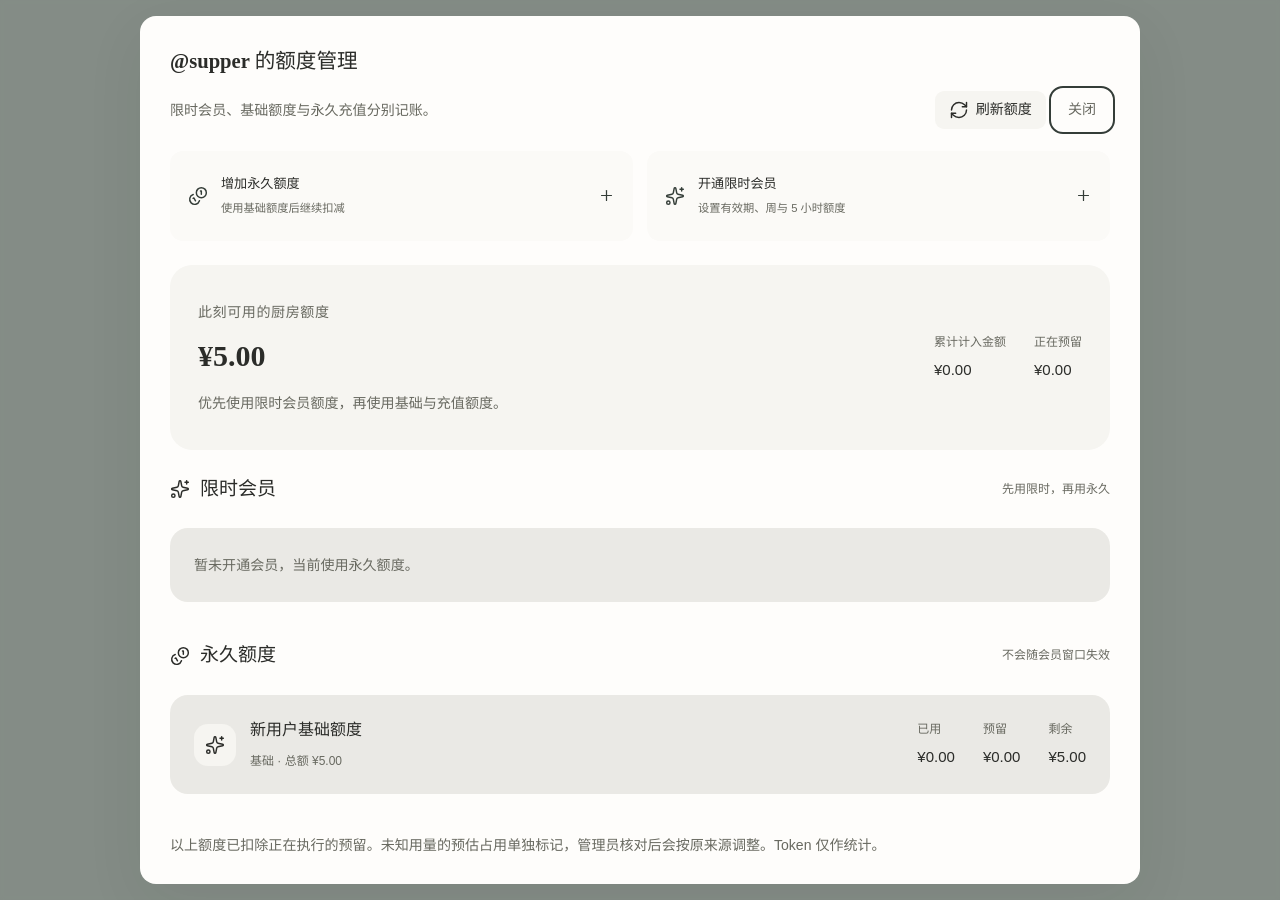
Test: Financial administration › keeps a saved grant committed if refreshing the parent account fails
The image size is (1280, 900).
Click the button "增加永久额度 使用基础额度后继续扣减" at (260, 183), box x1=170 y1=151 x2=633 y2=241
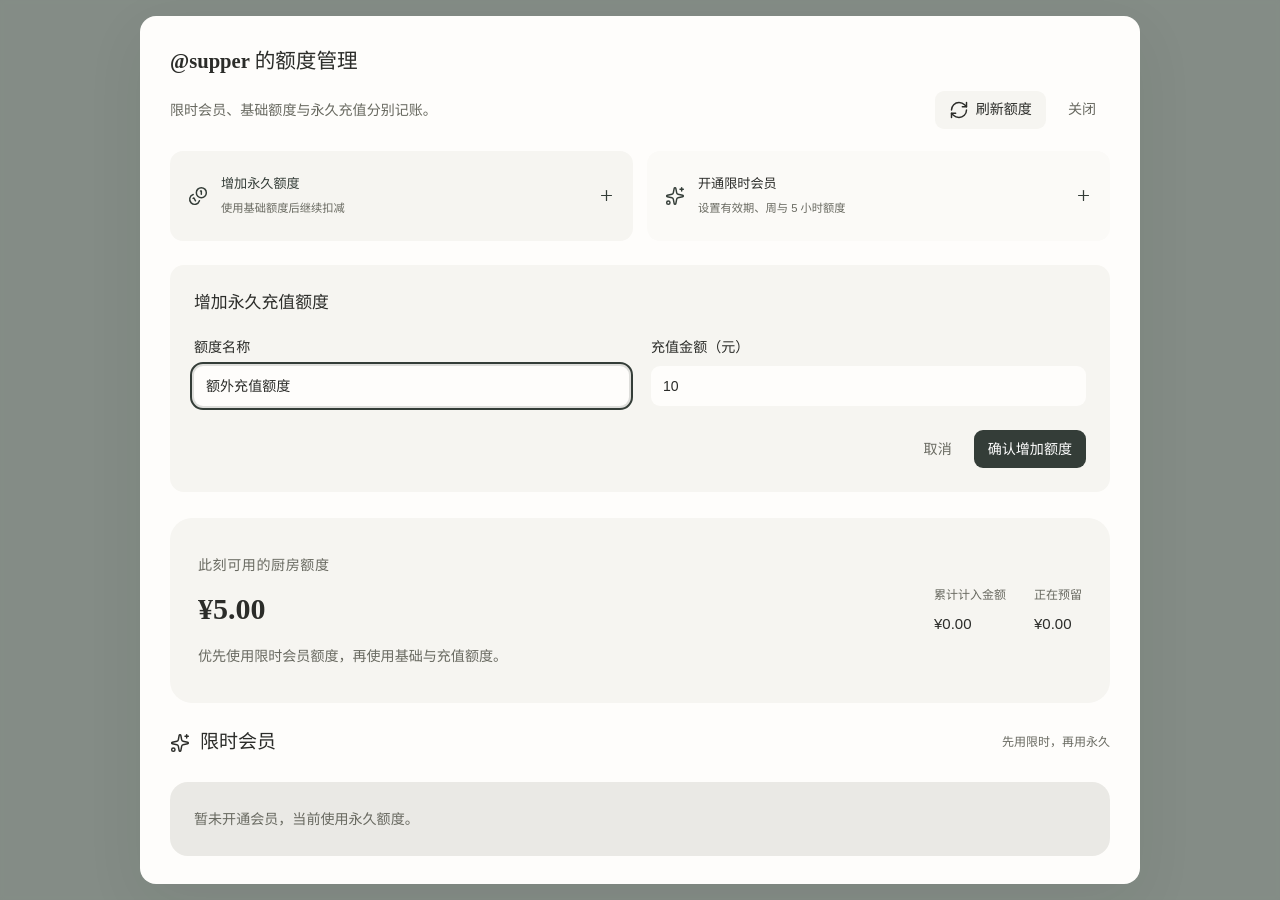
Submit the form "增加永久充值额度", box x1=170 y1=265 x2=1110 y2=492
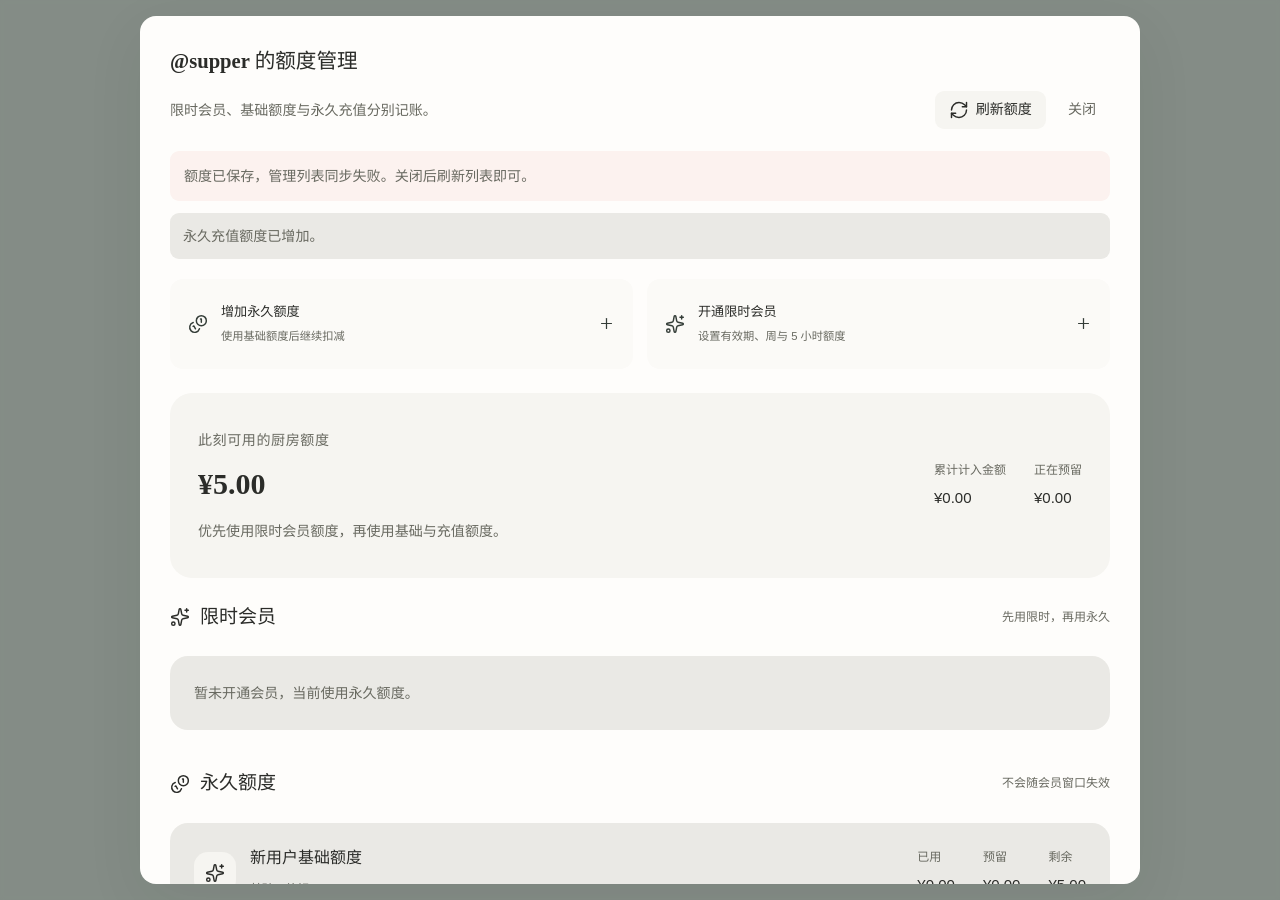
Expected: the message "额度已保存，管理列表同步失败。关闭后刷新列表即可。" is shown, x1=170 y1=151 x2=1110 y2=201
Expected: the heading "增加永久充值额度" is gone
